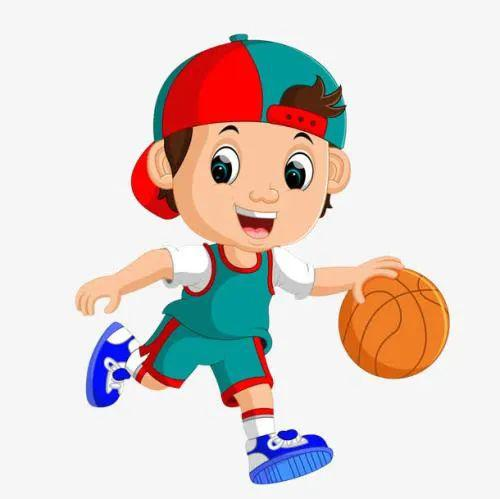ball: (338, 266, 451, 381)
